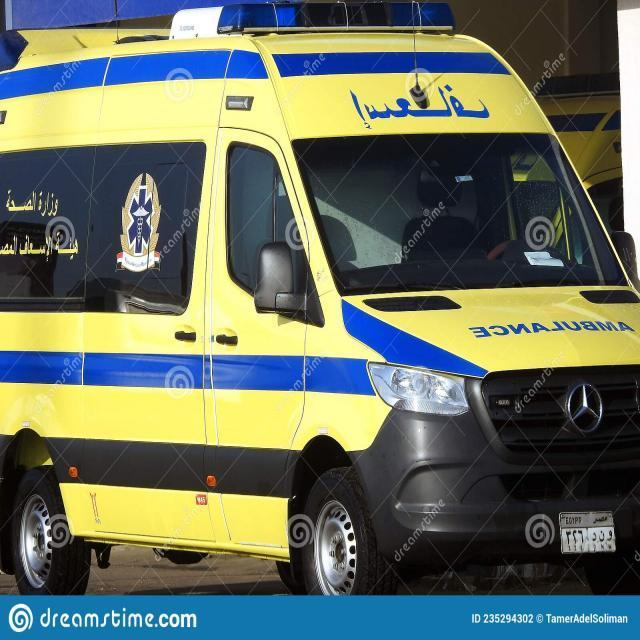emergency-vehicle: (1, 4, 632, 590)
